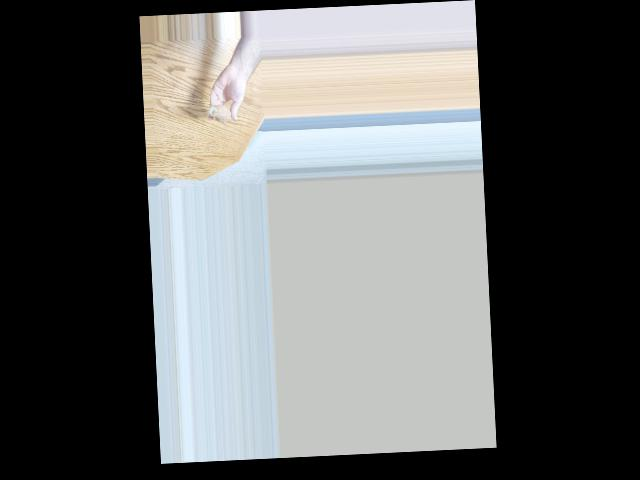sweet_potato: (208, 104, 234, 130)
